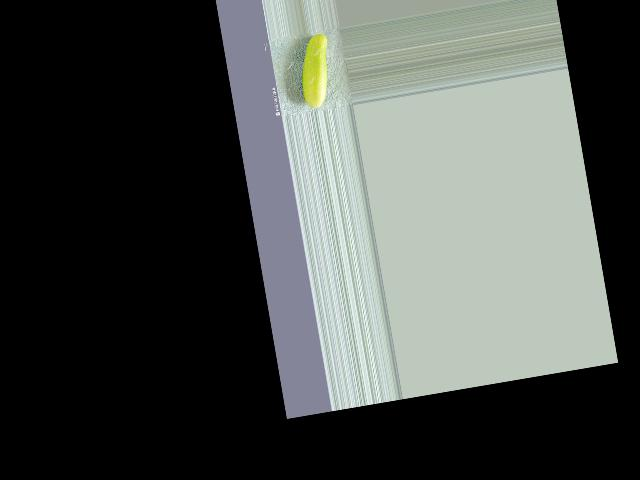cucumber: (293, 32, 337, 109)
